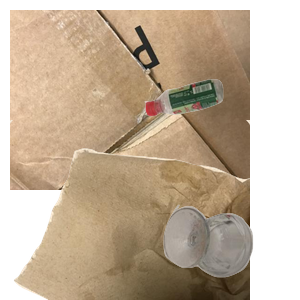cardboard: (10, 10, 250, 190)
glass: (161, 202, 300, 300)
plastic: (142, 77, 300, 186)
trash: (10, 120, 250, 300)
